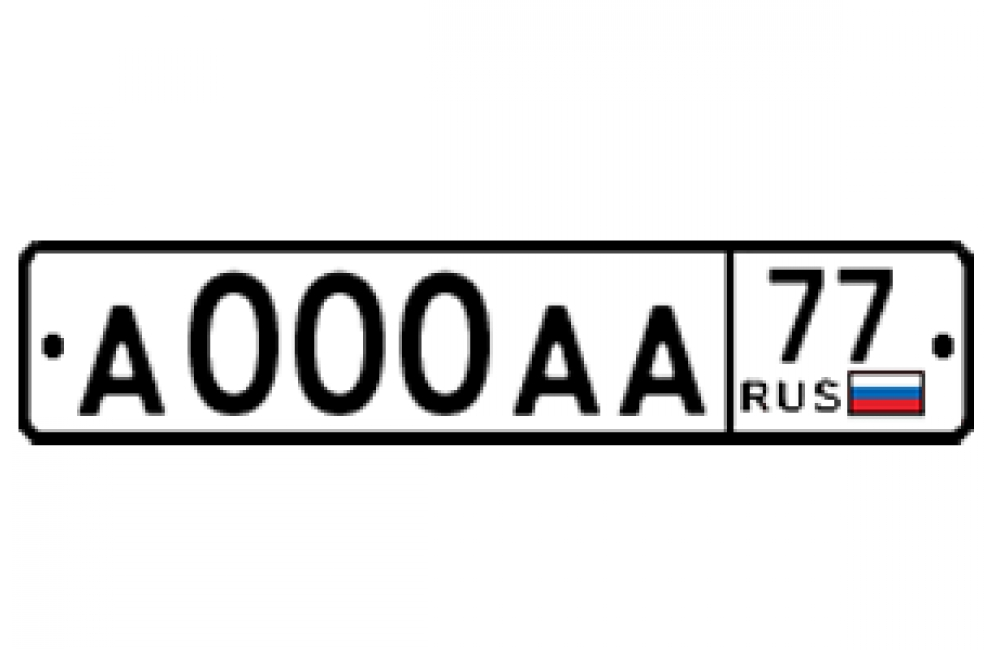number_plate: (25, 253, 962, 437)
